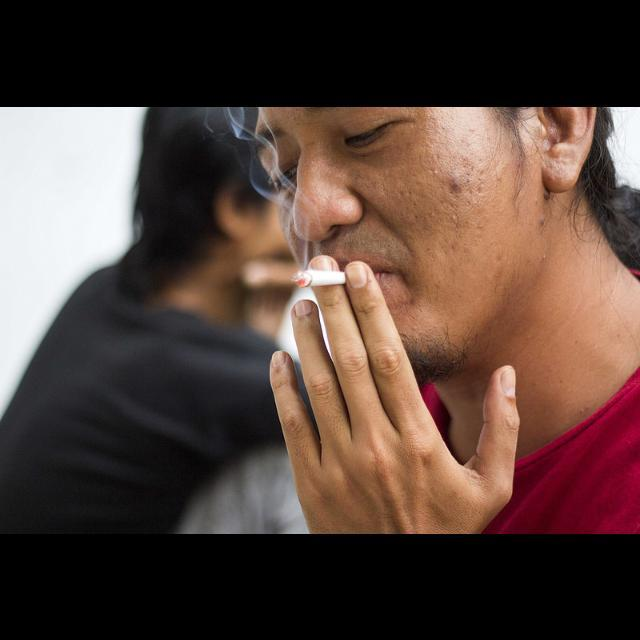rokok: (290, 266, 362, 292)
